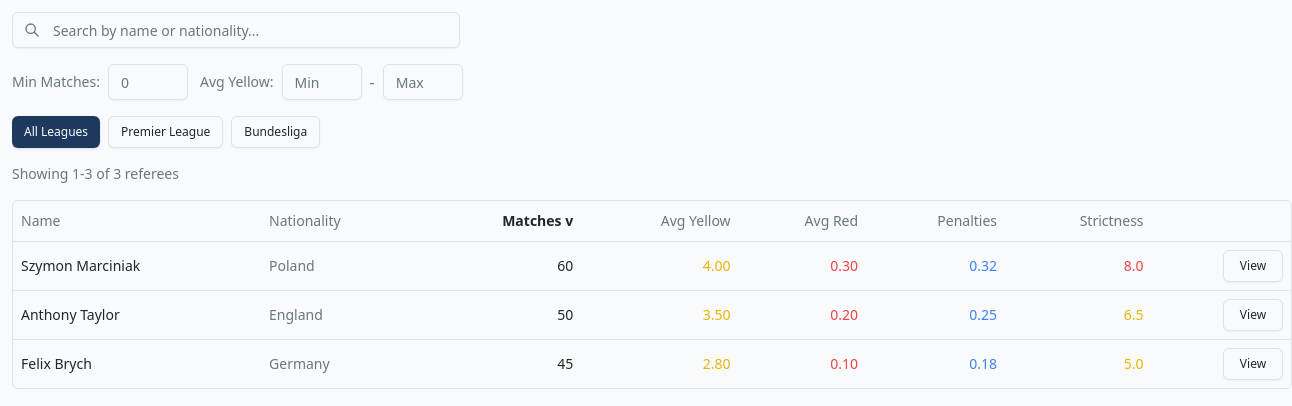
Scenario: RefereeDataTable › filters referees by league when clicked
Click the button "Bundesliga": (276, 132) top-left (231, 116), bottom-right (320, 148)
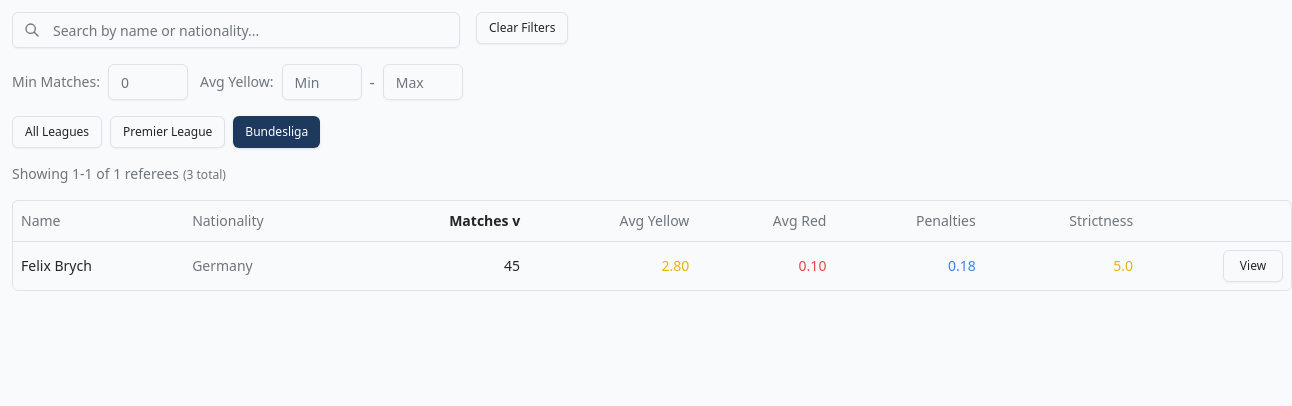
Expected: the link "Felix Brych" is shown, top-left (21, 256), bottom-right (92, 274)
Expected: the link "Anthony Taylor" is gone
Expected: the link "Szymon Marciniak" is gone
